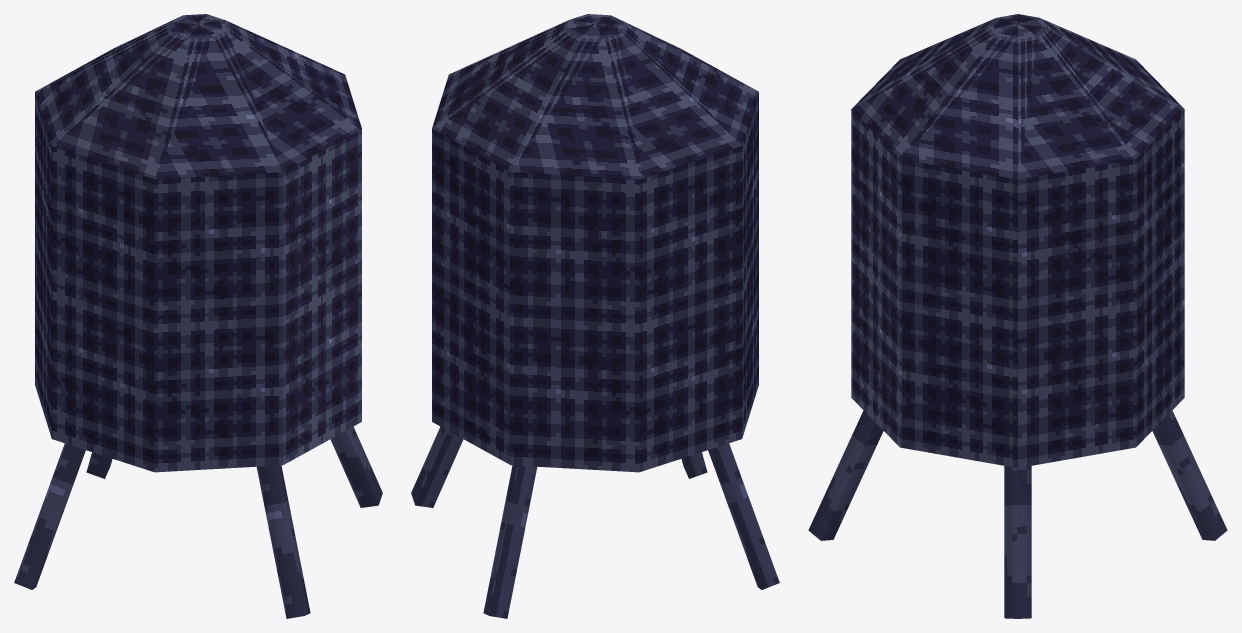
The model's file is cydress.water_tank.glb.
3 renders of one model, left to right at view 1: azimuth 30°, elevation 25°; view 2: azimuth 150°, elevation 25°; view 3: azimuth 270°, elevation 25°, orthographic.
Parts seen in each view (by area): view 1: kit_body; view 2: kit_body; view 3: kit_body.
Boxes of the visible parts, x1,y1,x2,y2 form: kit_body: [14, 14, 382, 618]; kit_body: [411, 14, 779, 618]; kit_body: [808, 14, 1227, 618].
Size of the model in its own units: 2.77 by 3.75 by 2.77.
2 materials, 2 textured.
